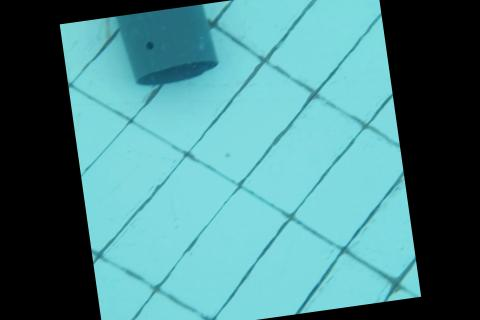kebocoran: (144, 39, 155, 50)
